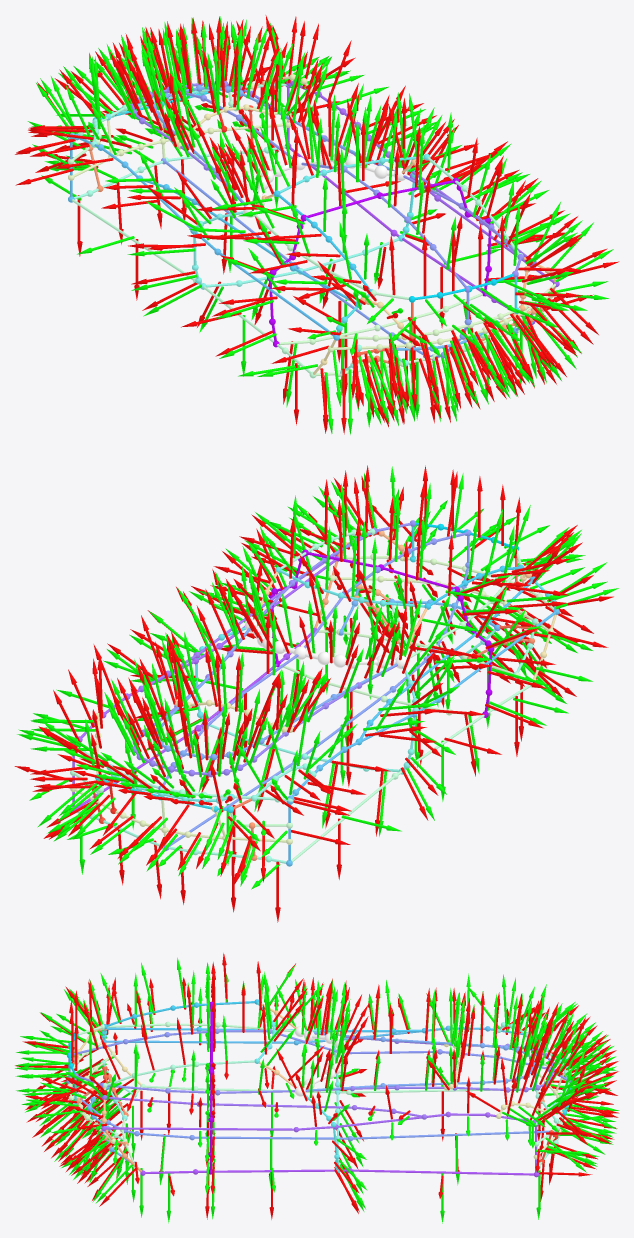
Rendered from t2f_car_93.gltf.
3 views of the same model, one above another, from view 1: azimuth 30°, elevation 25°; view 2: azimuth 150°, elevation 25°; view 3: azimuth 270°, elevation 25° (orthographic). The views are drawn at different scales.
Size of the model in its own units: 0.5709 by 0.4131 by 1.09.
